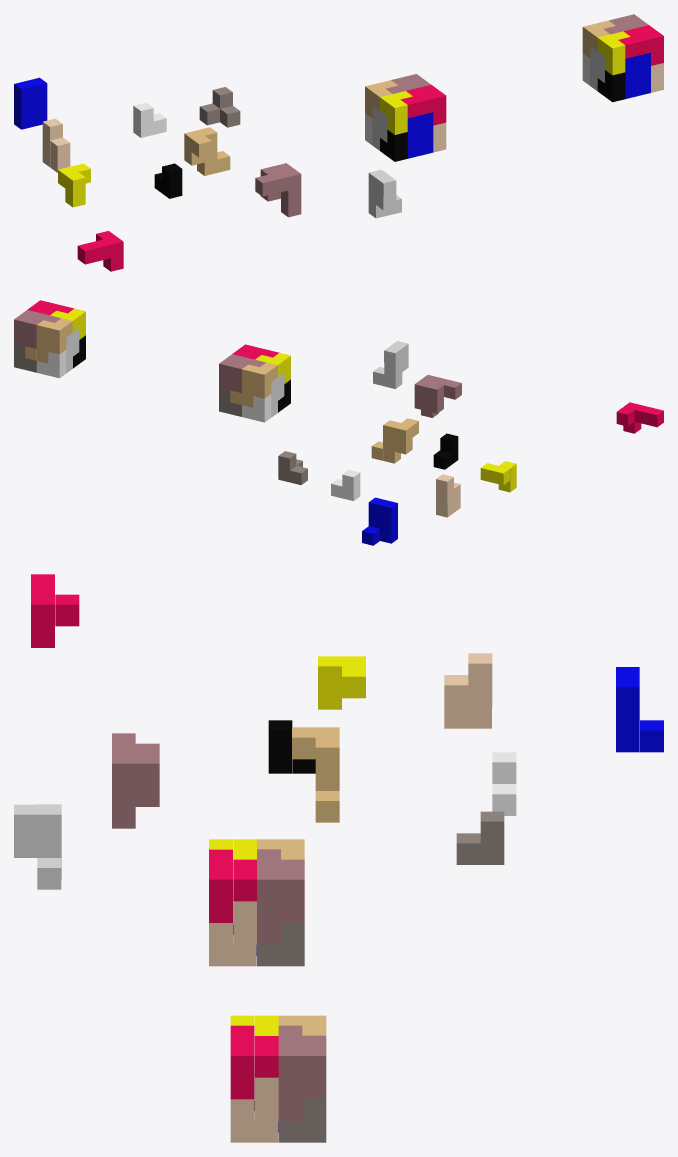
Rendered from puzzle.glb.
The picture shows the model from 3 angles, top to bottom: view 1: azimuth 30°, elevation 25°; view 2: azimuth 150°, elevation 25°; view 3: azimuth 270°, elevation 25°; orthographic projection. The views are drawn at different scales.
Parts seen in each view (by area): view 1: Group30, Group54, Group123, Group171, Group76, Group86, Group113, Group135, Group136, Group138, Group18, Group59 (+2 smaller); view 2: no part large enough to name; view 3: Group86, Group22, Group46, Group75, Group138.
Boxes of the visible parts, x1=… form: Group30: x1=133, y1=102, x2=153, y2=124; Group54: x1=387, y1=99, x2=407, y2=121; Group123: x1=376, y1=175, x2=396, y2=196; Group171: x1=605, y1=40, x2=625, y2=61; Group76: x1=77, y1=242, x2=97, y2=264; Group86: x1=42, y1=118, x2=62, y2=140; Group113: x1=162, y1=163, x2=182, y2=185; Group135: x1=220, y1=106, x2=240, y2=127; Group136: x1=199, y1=103, x2=219, y2=125; Group138: x1=212, y1=87, x2=232, y2=108; Group18: x1=191, y1=135, x2=211, y2=157; Group59: x1=65, y1=172, x2=85, y2=193; Group86: x1=468, y1=653, x2=492, y2=685; Group22: x1=315, y1=737, x2=339, y2=769; Group46: x1=135, y1=753, x2=159, y2=785; Group75: x1=55, y1=594, x2=79, y2=626; Group138: x1=480, y1=811, x2=504, y2=843.
Size of the model in its own units: 37.38 by 3 by 20.4.
